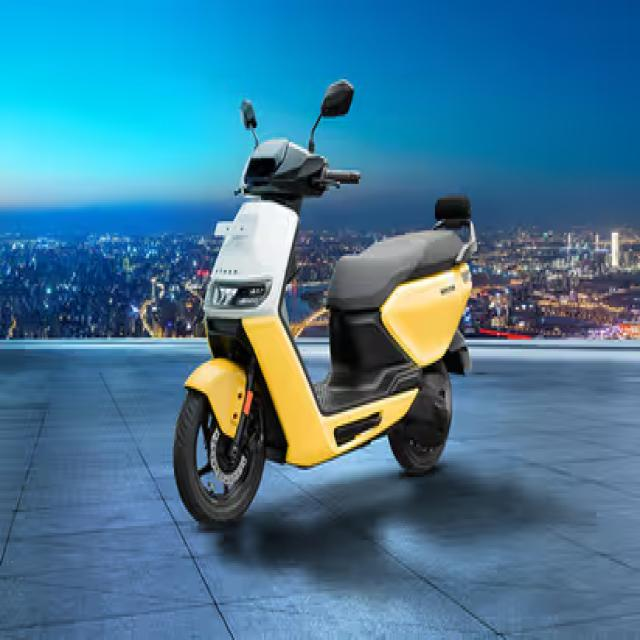objects: (156, 65, 489, 558)
